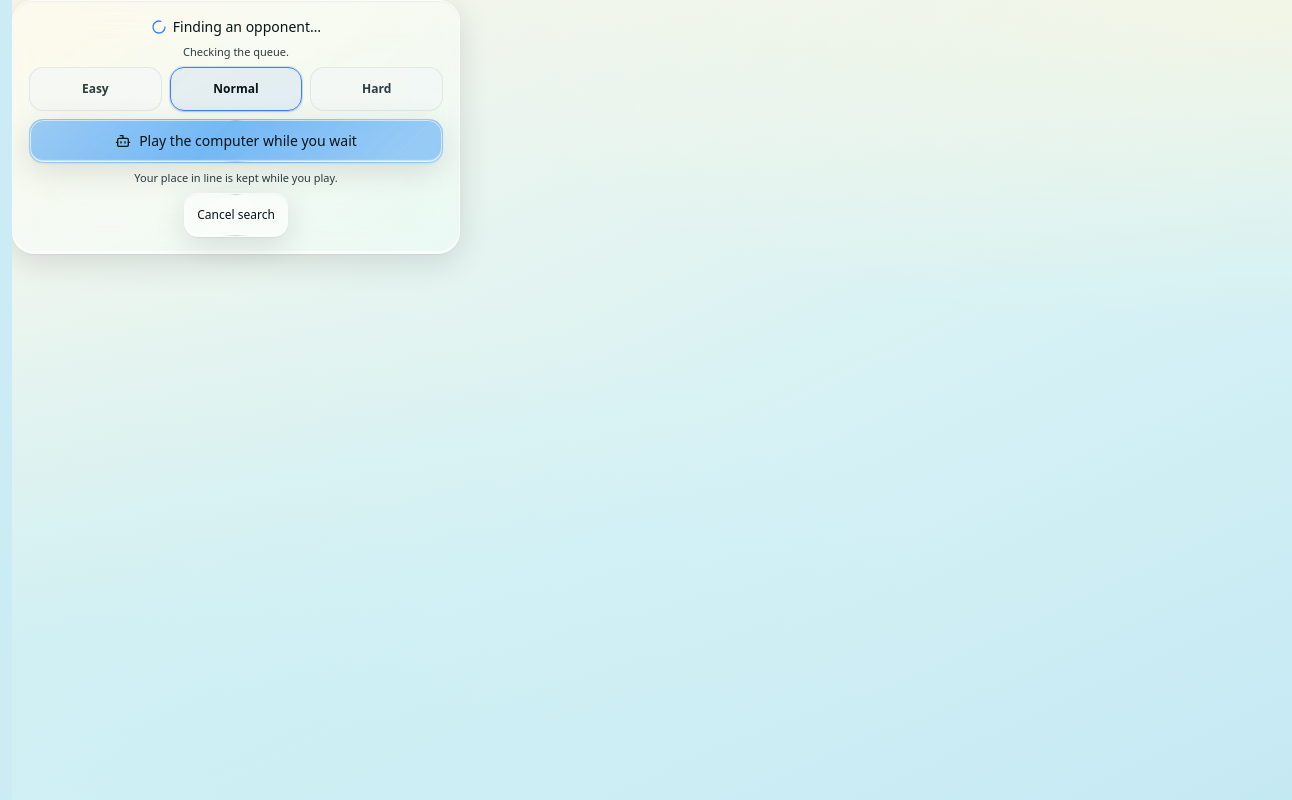
Test: OnlineGameSurface play while you wait › starts a game against the computer without leaving the queue
What coordinates should you click on to do the following:
click the button "Play the computer while you wait"
I would click on:
 (236, 141)
Its box is top-left (29, 119), bottom-right (443, 163).
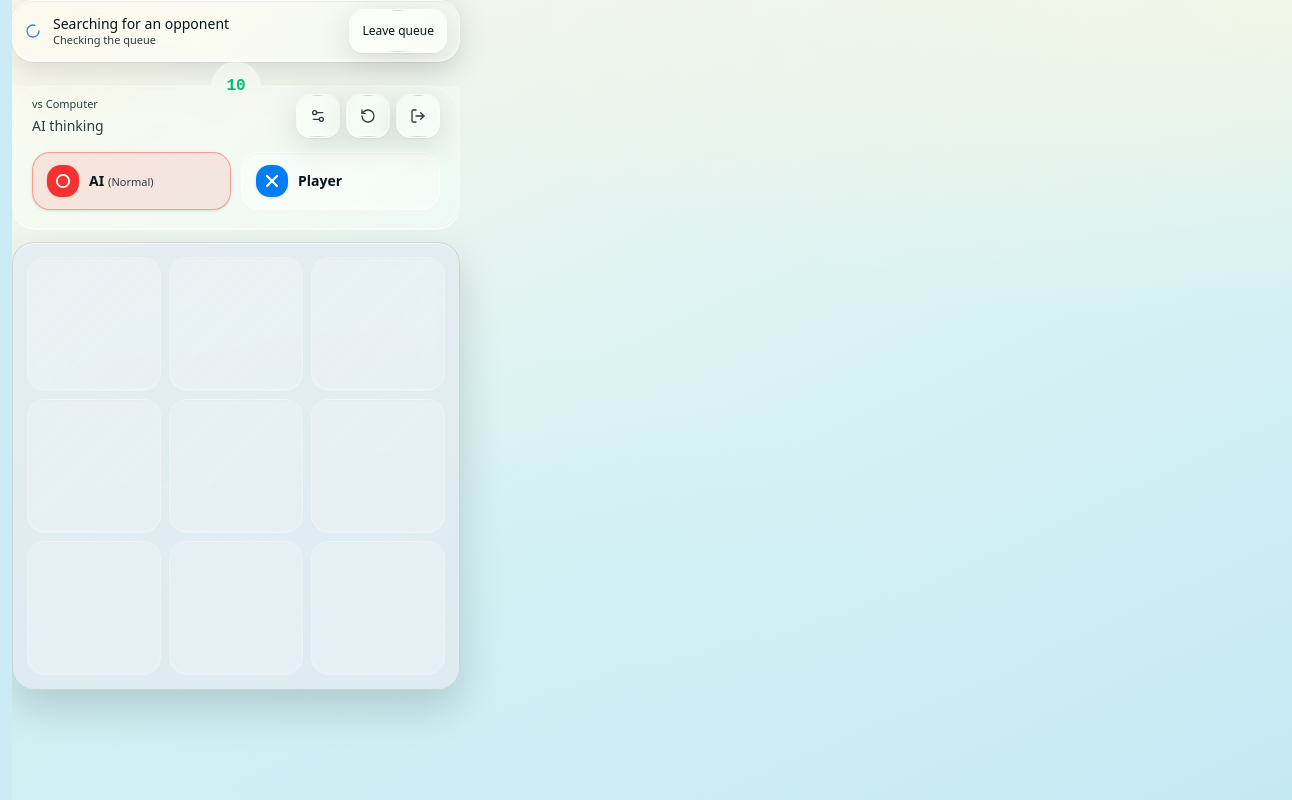
Result: the text "vs Computer" is shown at top-left (32, 96), bottom-right (98, 112)
Result: the text "Searching for an opponent" is shown at top-left (53, 14), bottom-right (229, 33)
Result: the button "Leave queue" is shown at top-left (350, 9), bottom-right (447, 53)
